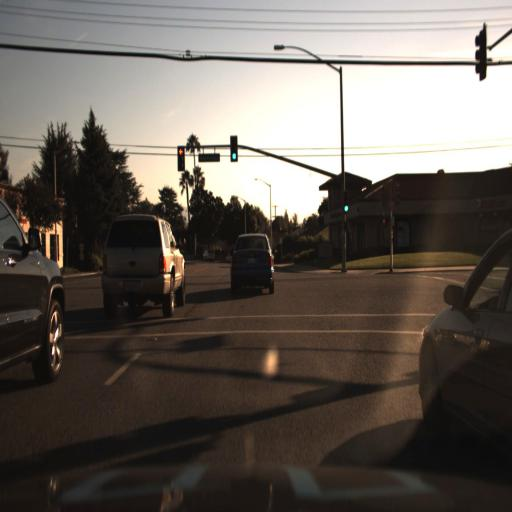car: (404, 211, 511, 475), (414, 223, 511, 488), (0, 168, 77, 399), (87, 186, 190, 340), (219, 221, 284, 308)
trafficLight-Green: (228, 132, 239, 161), (340, 197, 349, 221)
trafficLight-RedLeft: (174, 143, 186, 168)
